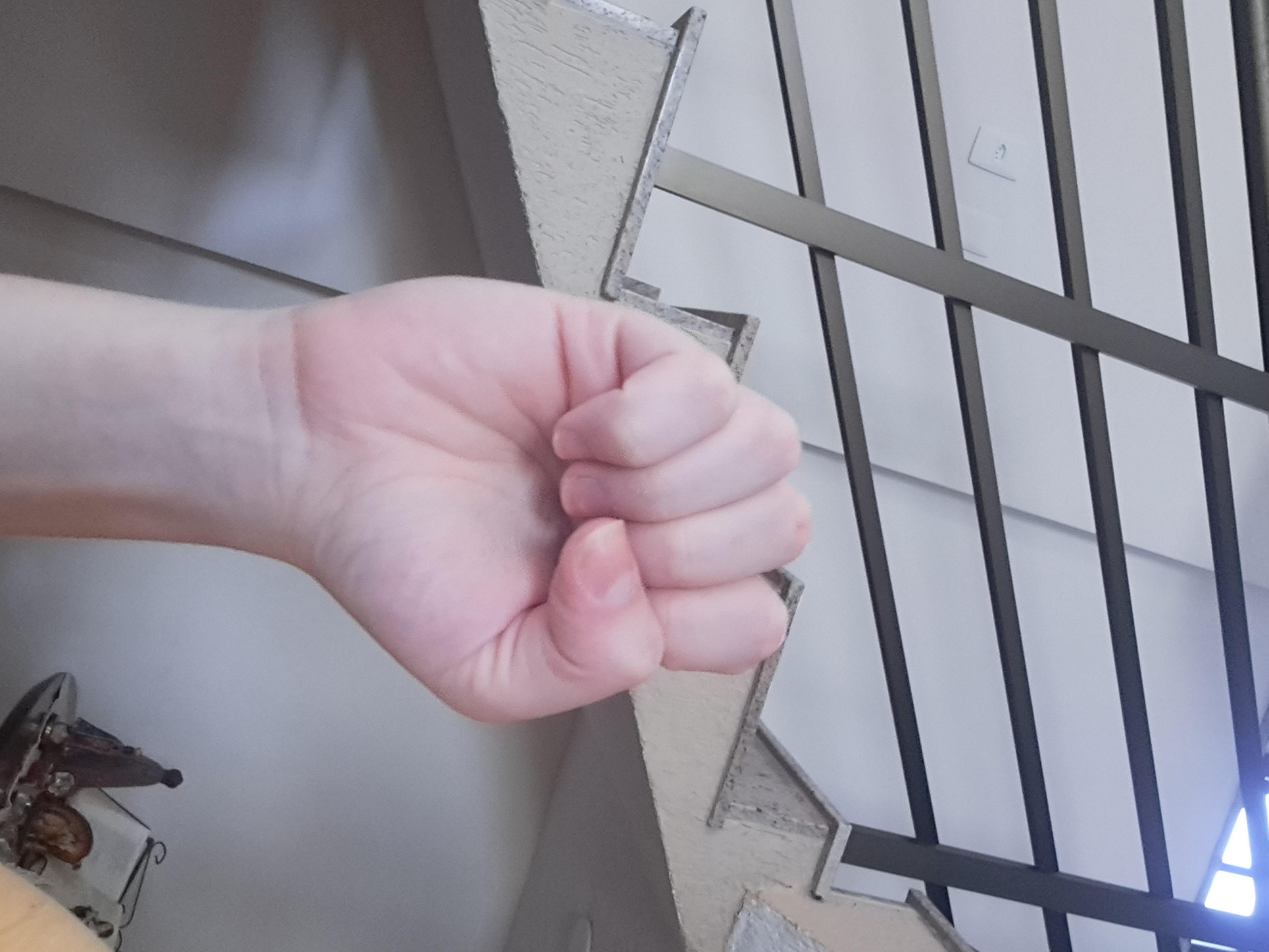S: (358, 330, 985, 744)
